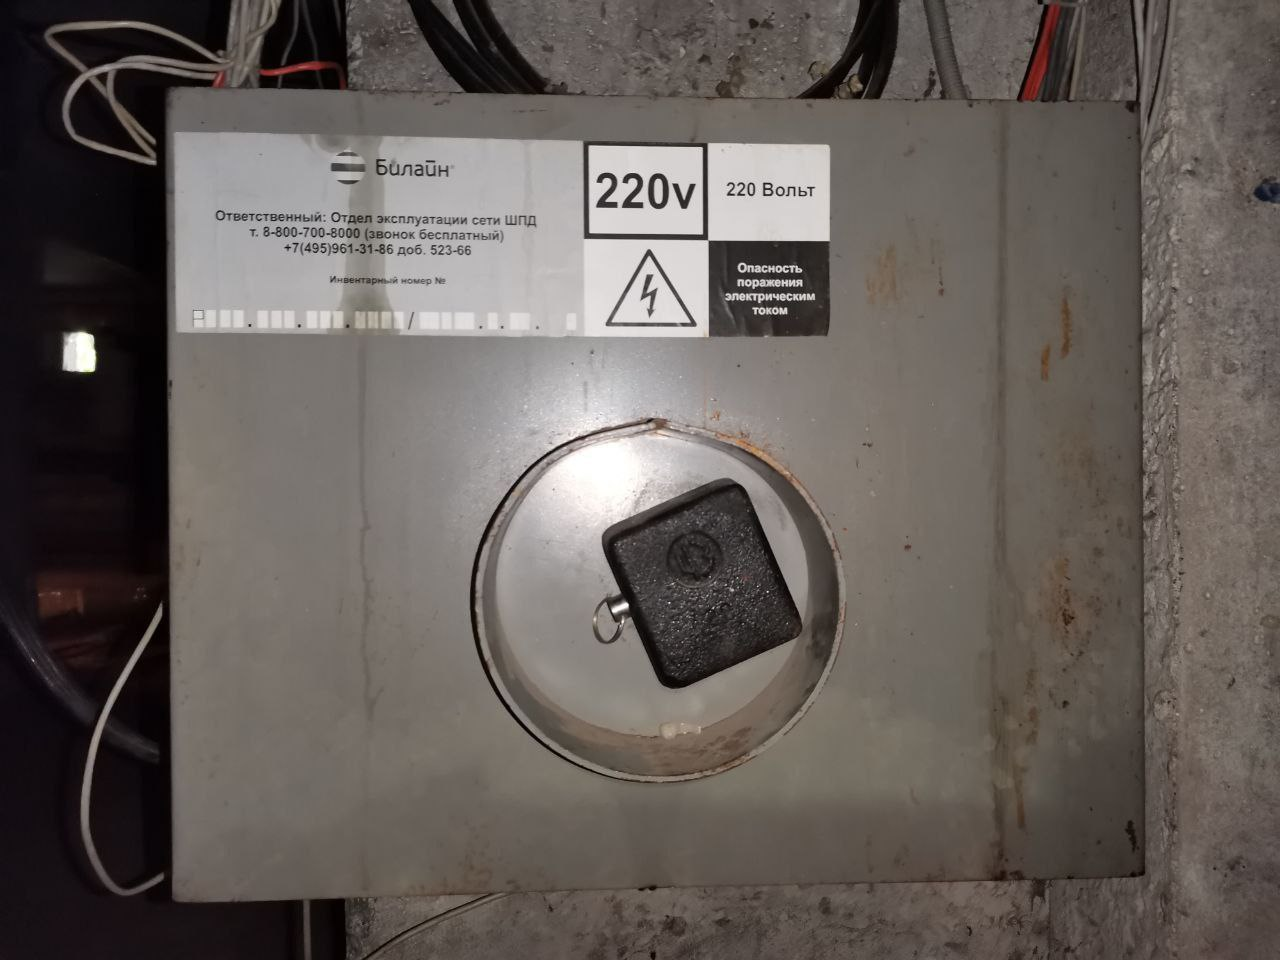shta-3: (159, 83, 1146, 904)
